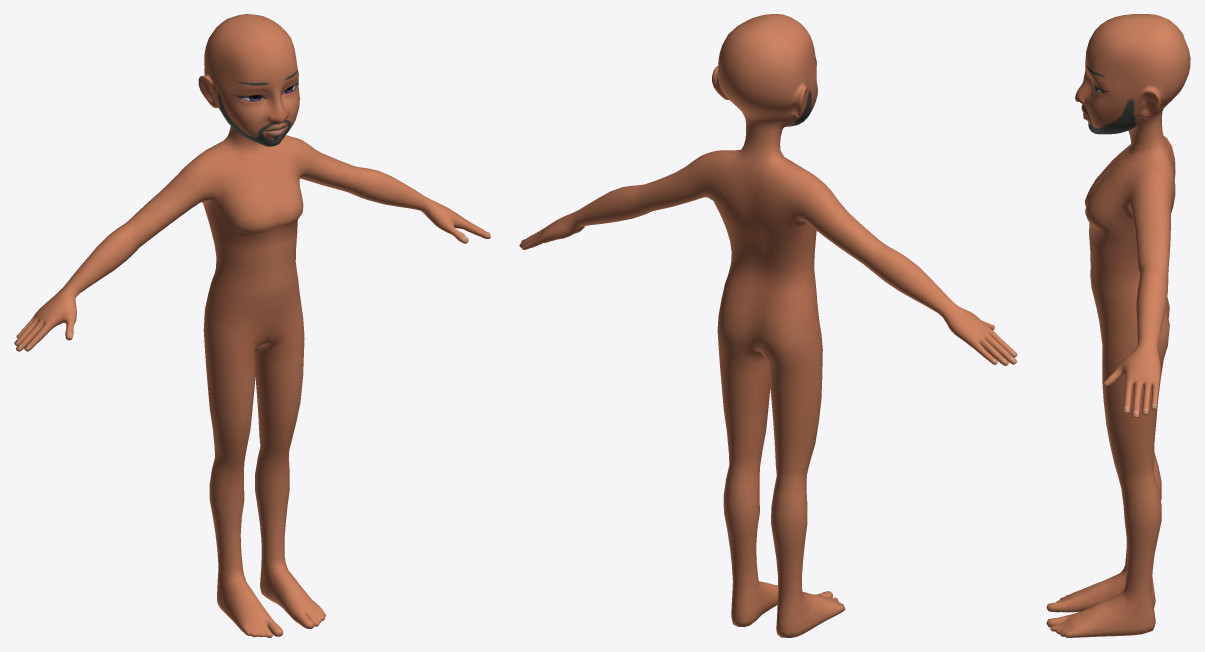
Rendered from frame_0031.glb.
3 renders of one model, left to right at view 1: azimuth 30°, elevation 25°; view 2: azimuth 150°, elevation 25°; view 3: azimuth 270°, elevation 25°, orthographic. The views are drawn at different scales.
Parts seen in each view (by area): view 1: frame_0031_head_geo; view 2: frame_0031_head_geo; view 3: frame_0031_head_geo.
Boxes of the visible parts, left/top/right/bottom form: frame_0031_head_geo: left=14, top=14, right=490, bottom=637; frame_0031_head_geo: left=519, top=14, right=1017, bottom=637; frame_0031_head_geo: left=1046, top=14, right=1190, bottom=637.
Bounding box in the file's own units: 1.28 × 1.5 × 0.3253.
3 materials, 3 textured.
